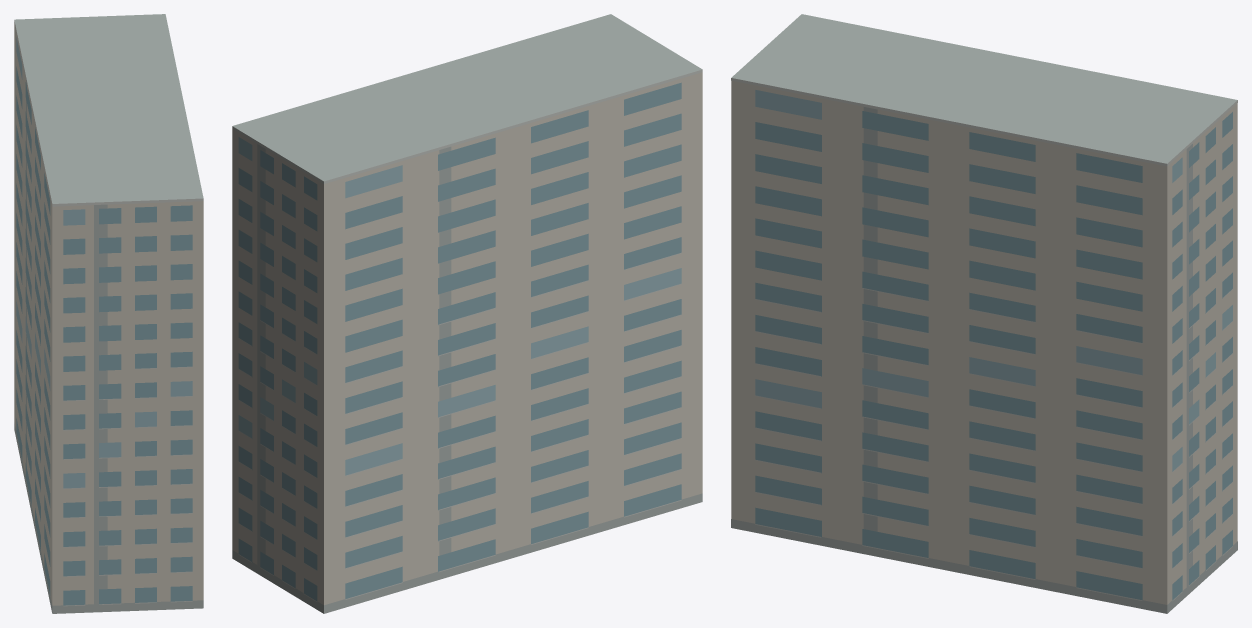
Rendered from residential-f57843fa-9a3b-4749-9645-5070d8f4637d.glb.
3 views of the same model, side by side, from view 1: azimuth 30°, elevation 25°; view 2: azimuth 150°, elevation 25°; view 3: azimuth 270°, elevation 25° (orthographic). The views are drawn at different scales.
Visible parts, largest first — view 1: residential-f57843fa-9a3b-4749-9645-5070d8f4637d.tmp; view 2: residential-f57843fa-9a3b-4749-9645-5070d8f4637d.tmp; view 3: residential-f57843fa-9a3b-4749-9645-5070d8f4637d.tmp.
Boxes of the visible parts, x1=… form: residential-f57843fa-9a3b-4749-9645-5070d8f4637d.tmp: x1=14, y1=14, x2=203, y2=613; residential-f57843fa-9a3b-4749-9645-5070d8f4637d.tmp: x1=232, y1=14, x2=702, y2=613; residential-f57843fa-9a3b-4749-9645-5070d8f4637d.tmp: x1=731, y1=14, x2=1237, y2=613.
Size of the model in its own units: 27.85 by 39 by 39.8.
